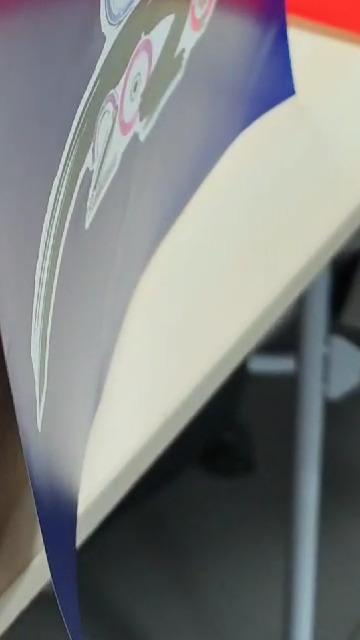B_R1: (14, 0, 244, 447)
